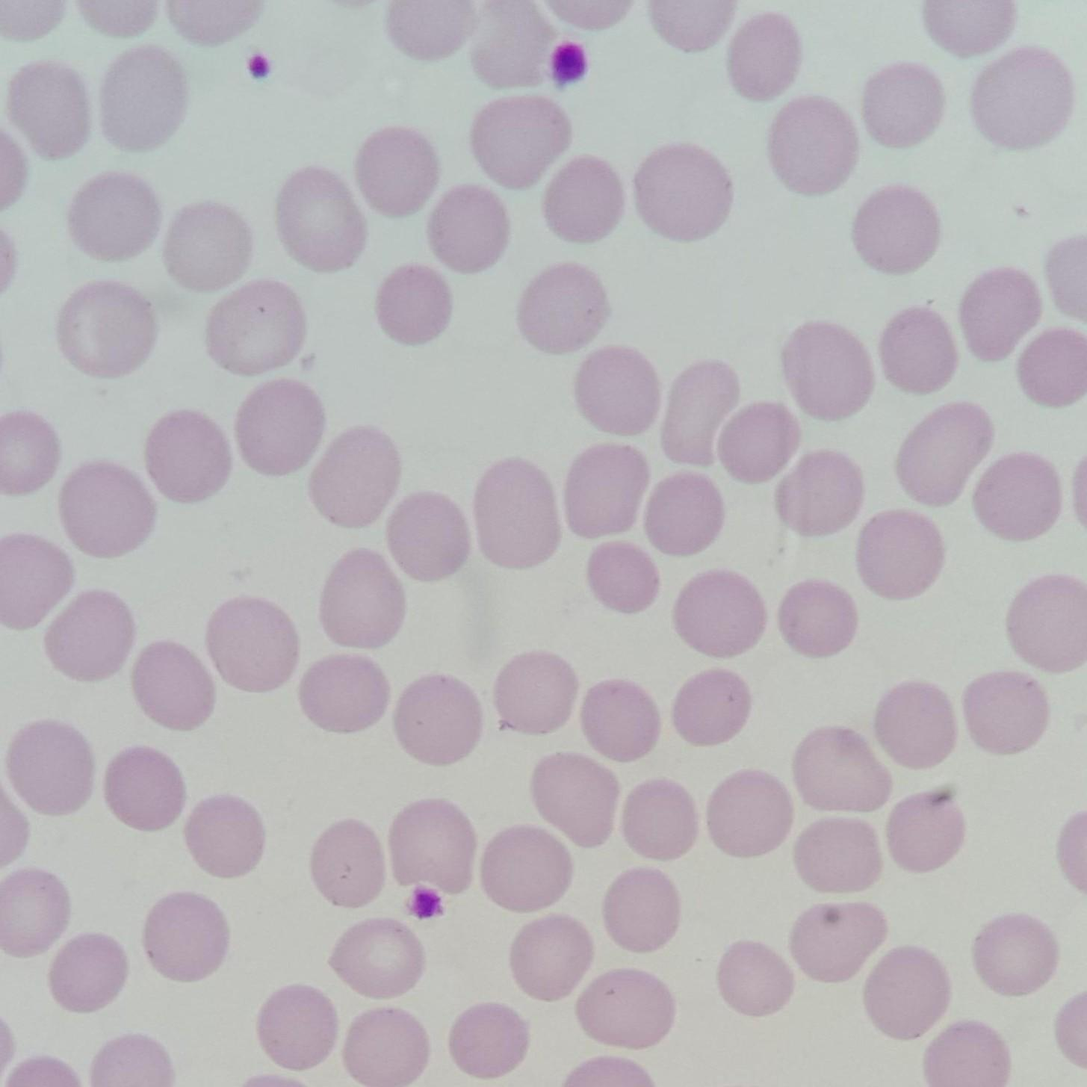Uninfected: (579, 895, 681, 990), (937, 970, 1035, 1068), (517, 473, 626, 560), (558, 309, 662, 400), (710, 205, 808, 301), (530, 56, 629, 151), (897, 471, 993, 568), (706, 58, 805, 152), (843, 636, 940, 731), (607, 232, 707, 323), (665, 782, 764, 872), (814, 277, 917, 362), (237, 528, 334, 618), (891, 768, 989, 857), (188, 388, 288, 475), (393, 207, 489, 297), (271, 793, 360, 890), (320, 394, 418, 482), (938, 99, 1038, 185), (437, 318, 536, 403), (173, 481, 263, 574), (544, 563, 642, 648), (823, 67, 914, 158), (731, 517, 823, 607), (102, 790, 188, 886), (427, 675, 517, 766), (47, 862, 140, 950), (623, 660, 725, 740), (331, 962, 423, 1050), (582, 145, 678, 229), (37, 579, 120, 676), (227, 704, 318, 792), (546, 773, 637, 861), (545, 975, 637, 1062), (404, 46, 497, 132), (87, 330, 172, 424), (272, 7, 368, 90), (812, 852, 902, 940), (84, 508, 175, 595), (317, 873, 410, 958), (105, 143, 196, 229), (347, 492, 439, 577), (725, 956, 817, 1041), (356, 131, 450, 214), (352, 298, 438, 388), (795, 164, 885, 250), (486, 856, 577, 941), (505, 385, 597, 469), (190, 793, 274, 885), (650, 575, 741, 659), (868, 354, 959, 437), (929, 7, 1023, 87), (413, 1008, 510, 1085), (179, 309, 271, 388), (839, 546, 933, 623), (530, 642, 619, 723), (692, 878, 781, 959), (90, 973, 174, 1058), (811, 427, 900, 507), (603, 714, 690, 795), (2, 341, 83, 428), (255, 105, 343, 185), (339, 668, 424, 750), (17, 256, 102, 338), (208, 183, 294, 264), (213, 885, 299, 966), (133, 602, 220, 682), (326, 580, 413, 658), (938, 862, 1021, 943), (427, 778, 510, 858), (456, 1, 551, 70), (226, 620, 311, 697), (8, 446, 86, 528), (985, 726, 1068, 802), (75, 49, 156, 126), (69, 716, 147, 795), (741, 376, 824, 450), (130, 1, 216, 68), (0, 922, 66, 1006), (473, 587, 546, 659), (679, 1019, 758, 1083), (592, 1, 674, 58), (1, 90, 55, 175), (1034, 650, 1083, 737)
